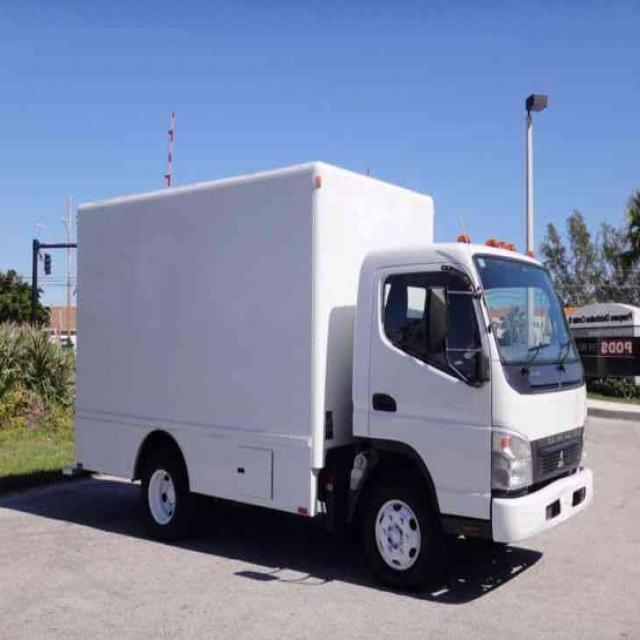truck: (75, 158, 594, 586)
